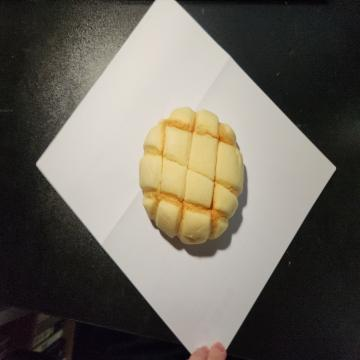melon_bread: (136, 107, 246, 246)
